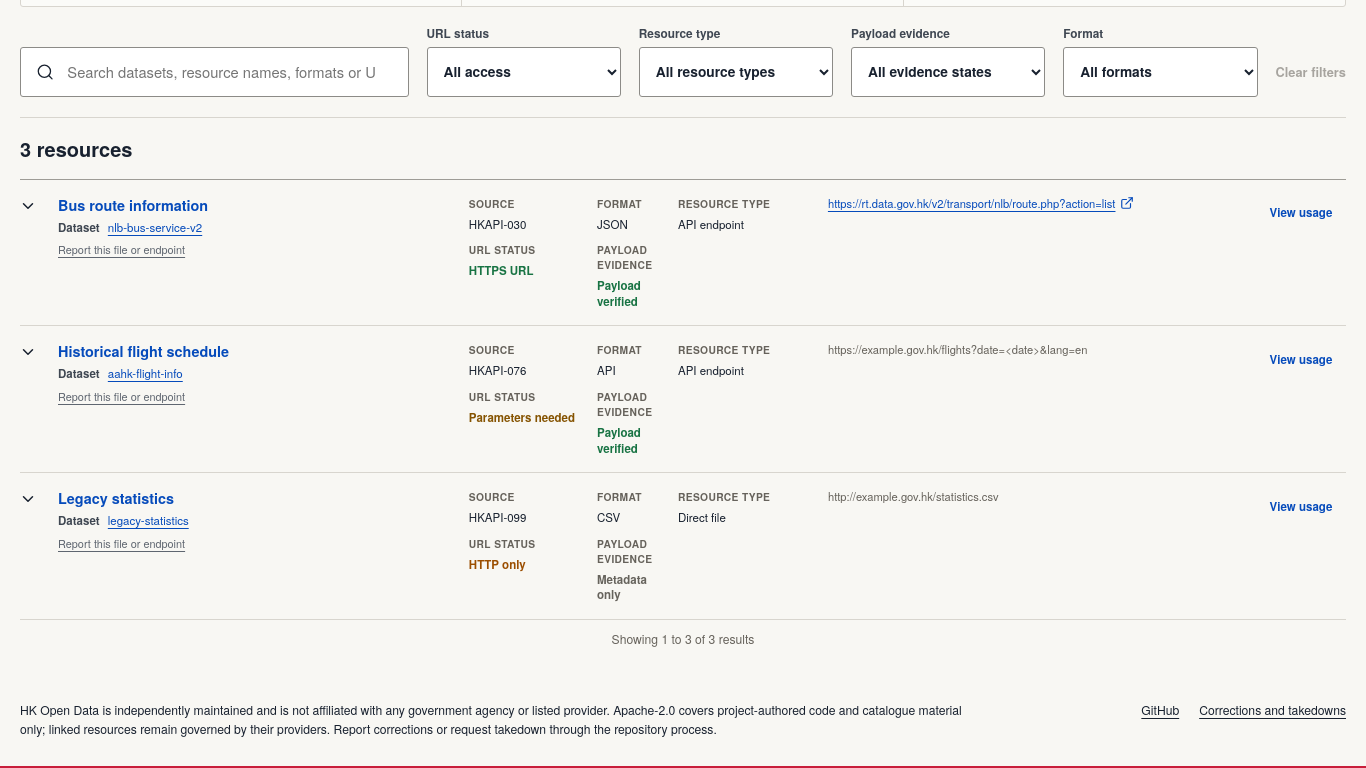
it: provider-resource browser › does not offer an executable command for HTTP-only resources
(page scrolled)
Click the button "View usage" in the row of "http://example.gov.hk/statistics.csv" at (1301, 506), box [1256, 489, 1346, 523]
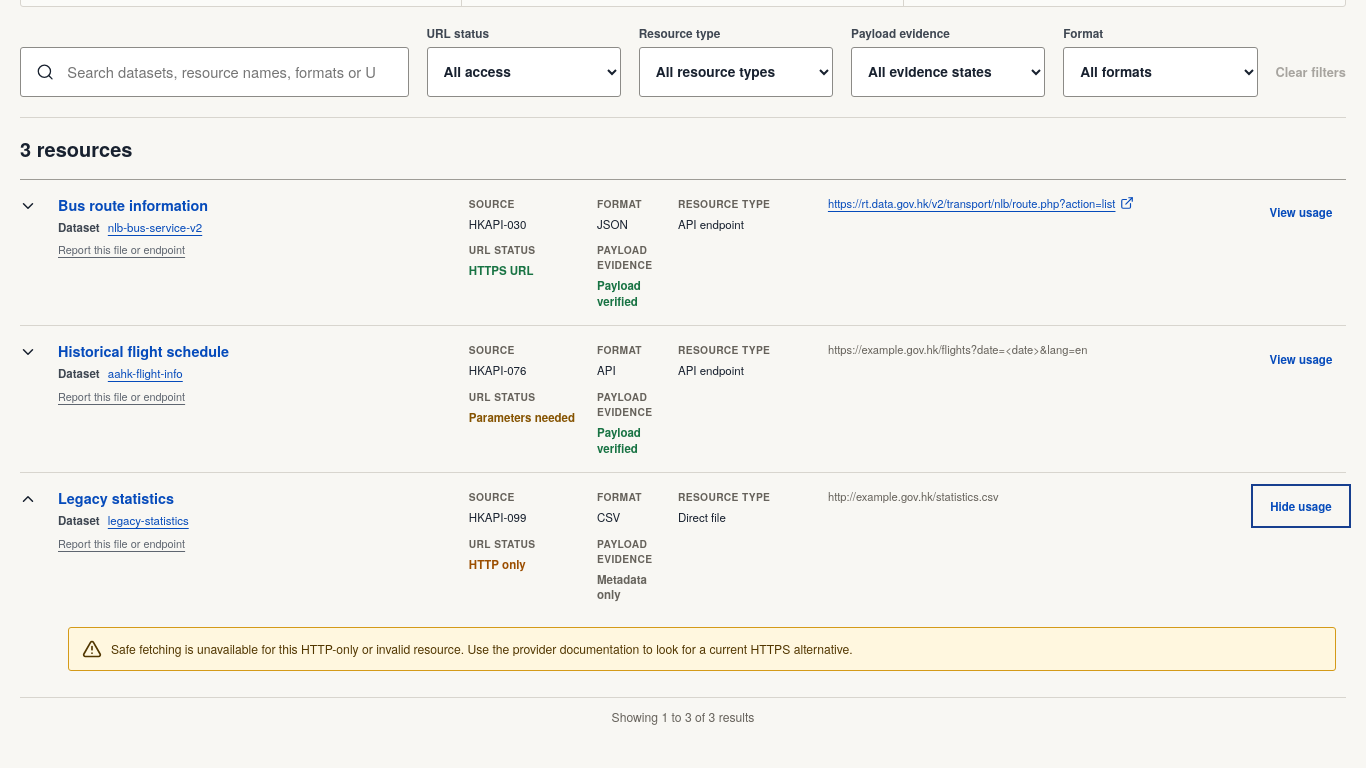
Check: the text "Safe fetching is unavailable" is shown, box [111, 640, 853, 657]
